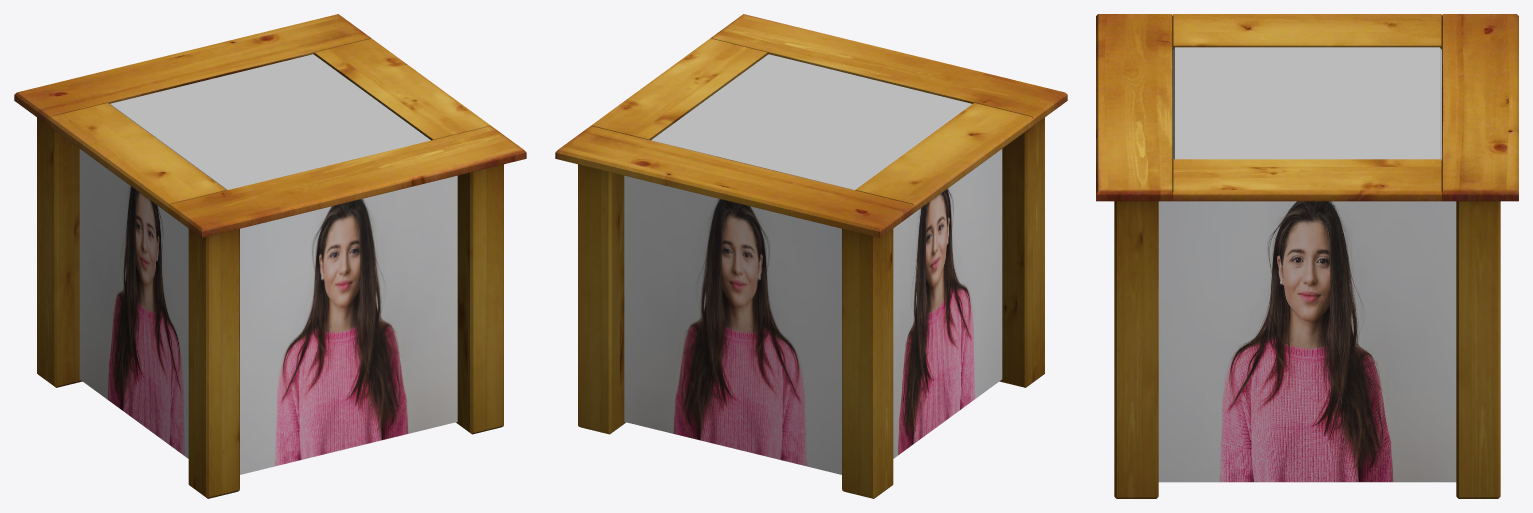
File: table_woman copy.dae
The picture shows the model from 3 angles, left to right: view 1: azimuth 30°, elevation 25°; view 2: azimuth 150°, elevation 25°; view 3: azimuth 270°, elevation 25°; orthographic projection. The views are drawn at different scales.
Parts seen in each view (by area): view 1: Wood_Table, Cube; view 2: Wood_Table, Cube; view 3: Wood_Table, Cube.
Part boxes in pixels (bbox=[...]): Wood_Table: bbox=[14, 14, 526, 498]; Cube: bbox=[79, 149, 457, 474]; Wood_Table: bbox=[555, 14, 1067, 498]; Cube: bbox=[624, 149, 1002, 474]; Wood_Table: bbox=[1096, 14, 1518, 498]; Cube: bbox=[1158, 201, 1456, 482].
Size of the model in its own units: 0.9901 by 0.9901 by 0.8162.
3 materials, 2 textured.
